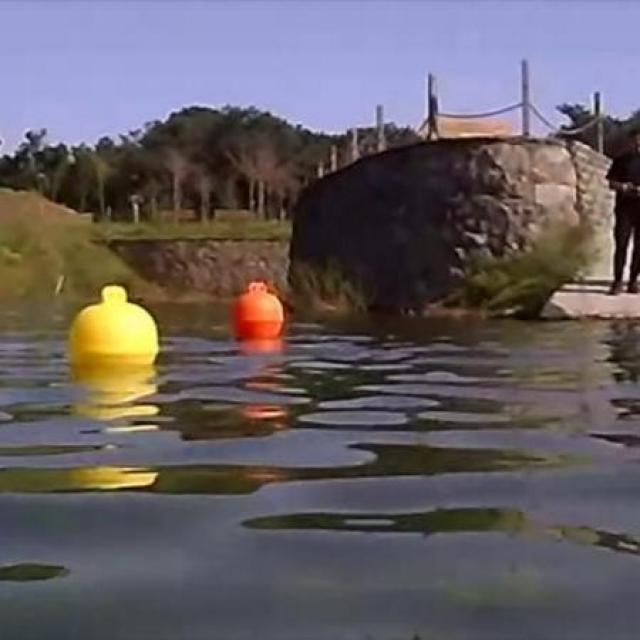buoy: (68, 283, 161, 366), (229, 281, 283, 335)
